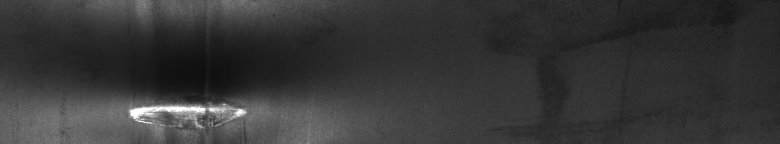ke: (52, 4, 296, 136)
